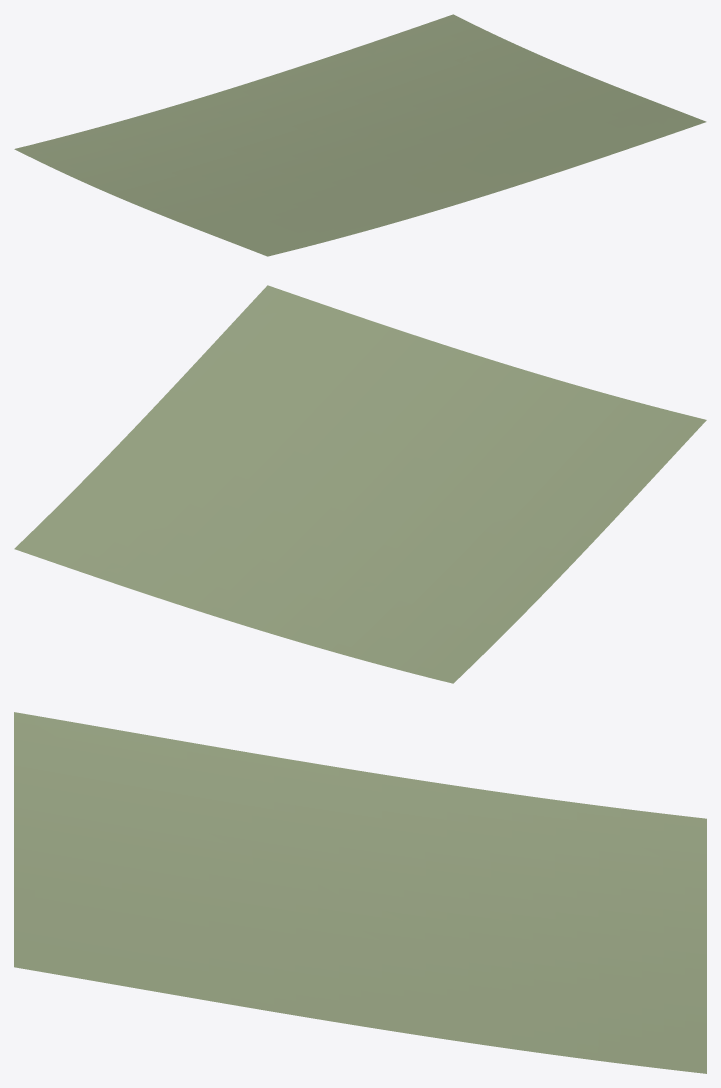
File: valley-0-13.glb
3 views of the same model, one above another, from view 1: azimuth 30°, elevation 25°; view 2: azimuth 150°, elevation 25°; view 3: azimuth 270°, elevation 25° (orthographic). The views are drawn at different scales.
Visible parts, largest first — view 1: valley-0-13; view 2: valley-0-13; view 3: valley-0-13.
Part boxes in pixels (x1,y1,x2,y2): valley-0-13: (14, 14, 706, 256); valley-0-13: (14, 285, 706, 683); valley-0-13: (14, 712, 706, 1073).
Size of the model in its own units: 256 by 58.82 by 256.
